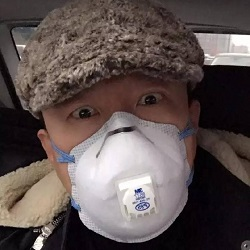mask: (51, 110, 196, 244)
